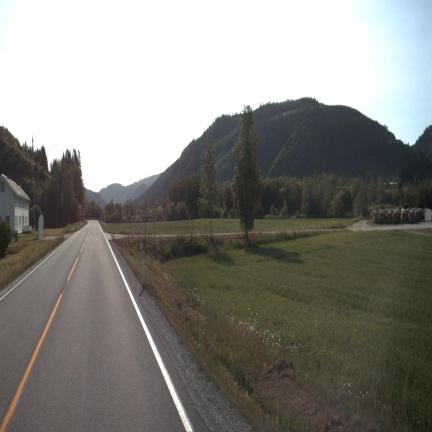Road: (0, 222, 206, 430)
